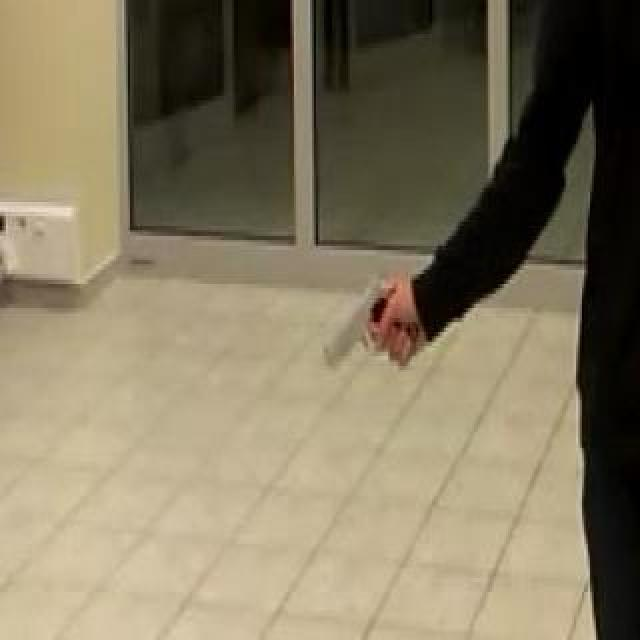Guns: (309, 266, 417, 384)
